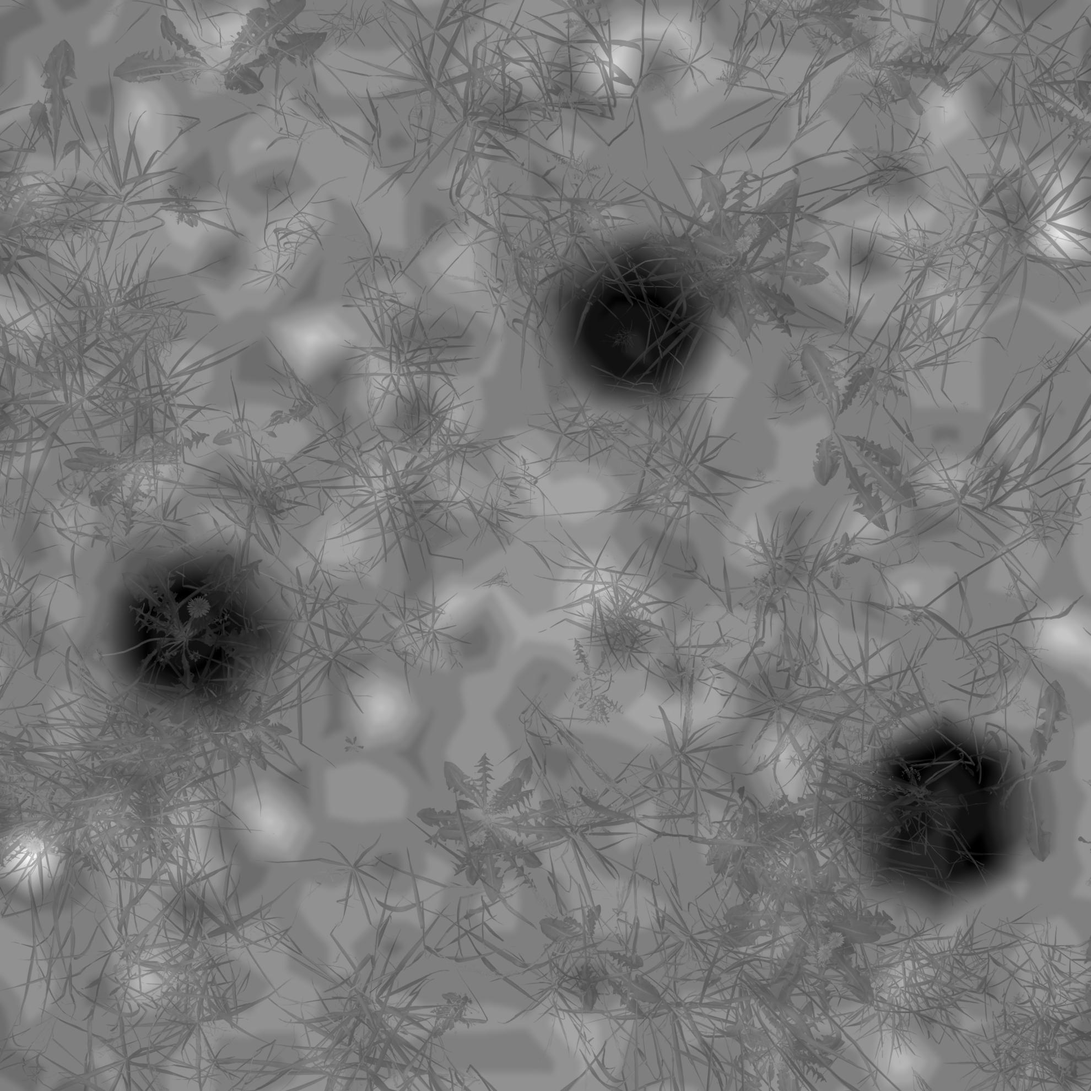landmine: (106, 543, 271, 718), (858, 729, 1021, 885), (562, 254, 698, 387)
